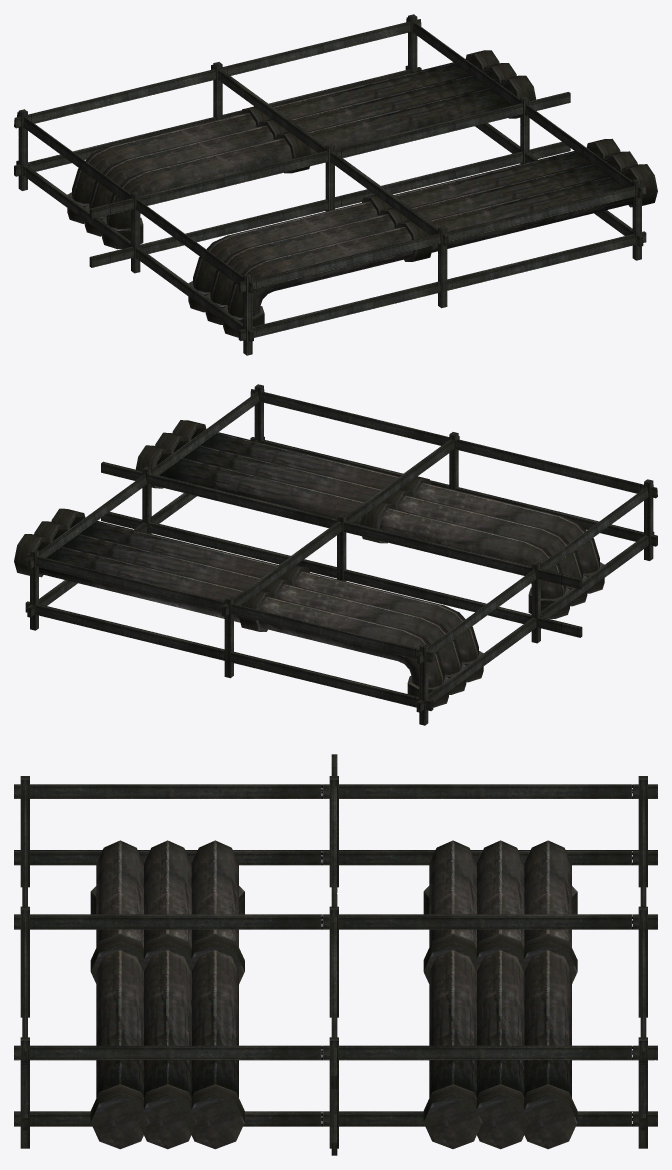
File: tesla_dressing_pipe_clusters_03.DAE
3 renders of one model, top to bottom at view 1: azimuth 30°, elevation 25°; view 2: azimuth 150°, elevation 25°; view 3: azimuth 270°, elevation 25°, orthographic. The views are drawn at different scales.
Visible parts, largest first — view 1: polySurface1, cluster_01_frame; view 2: polySurface1, cluster_01_frame; view 3: polySurface1, cluster_01_frame.
Part boxes in pixels (<box>): polySurface1: <box>67,50,657,337</box>; cluster_01_frame: <box>14,14,646,355</box>; polySurface1: <box>14,420,604,707</box>; cluster_01_frame: <box>25,384,657,725</box>; polySurface1: <box>90,840,577,1149</box>; cluster_01_frame: <box>14,754,657,1155</box>.
Bounding box in the file's own units: 4 × 0.6856 × 3.39.
